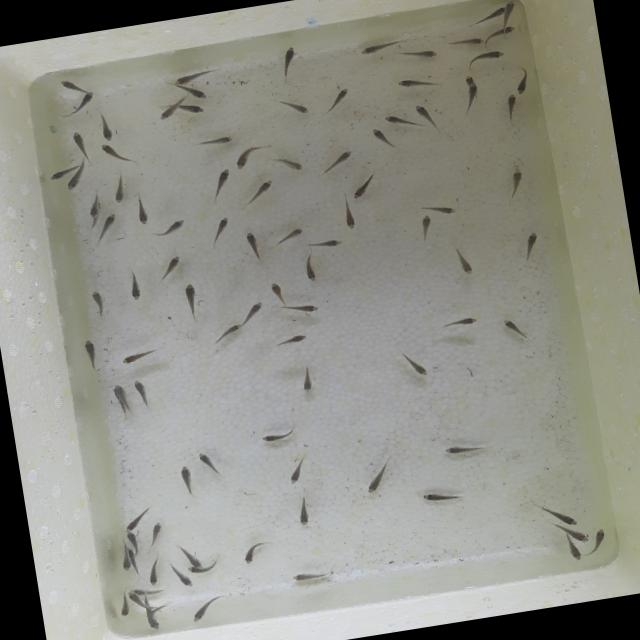fingerling: (252, 423, 304, 446), (546, 499, 581, 531), (318, 147, 358, 175), (295, 249, 326, 284), (418, 486, 462, 510), (240, 228, 268, 265), (362, 462, 392, 496), (396, 72, 440, 95), (195, 447, 223, 482), (500, 312, 528, 346), (452, 246, 480, 280), (281, 298, 324, 320), (274, 94, 310, 120), (240, 539, 272, 568), (349, 172, 382, 200), (438, 438, 484, 458), (336, 196, 360, 234), (354, 38, 399, 58), (232, 145, 263, 174), (174, 461, 198, 498), (556, 520, 590, 546), (516, 227, 542, 260), (507, 164, 532, 198), (192, 596, 222, 624), (78, 336, 102, 371), (276, 46, 300, 81), (424, 197, 462, 219), (182, 280, 202, 321), (246, 179, 280, 203), (411, 98, 438, 128), (171, 68, 216, 86), (439, 312, 479, 332), (151, 218, 189, 239), (121, 508, 154, 532), (124, 268, 147, 302), (308, 232, 347, 252), (114, 590, 138, 622), (68, 128, 92, 160), (208, 324, 245, 344), (404, 352, 430, 380), (458, 84, 484, 112), (368, 126, 396, 152), (272, 154, 305, 176), (156, 254, 186, 278), (88, 284, 108, 320), (382, 110, 416, 131), (287, 457, 310, 488), (297, 364, 319, 396), (132, 372, 154, 404), (97, 212, 120, 242), (119, 348, 157, 366), (466, 49, 506, 66), (147, 518, 168, 550), (193, 136, 235, 152), (100, 142, 128, 166), (210, 167, 233, 196), (326, 85, 355, 108), (296, 495, 316, 528), (56, 74, 86, 96), (208, 216, 232, 243), (134, 194, 152, 230), (402, 46, 438, 64), (72, 92, 100, 115), (290, 568, 330, 584), (471, 8, 504, 27), (180, 544, 202, 572), (46, 165, 78, 184), (96, 110, 115, 142), (417, 212, 437, 242), (585, 530, 608, 556), (112, 170, 130, 203), (504, 91, 524, 120), (268, 278, 290, 304), (84, 194, 105, 221), (274, 226, 307, 243), (513, 68, 533, 96), (132, 584, 168, 599), (180, 84, 210, 102), (566, 536, 585, 564), (179, 99, 207, 118), (272, 332, 309, 346), (449, 36, 485, 50), (185, 561, 213, 578), (149, 556, 162, 590), (125, 528, 142, 554), (118, 546, 133, 573), (245, 300, 265, 320), (502, 1, 518, 26), (64, 177, 86, 195), (128, 589, 144, 611), (144, 606, 158, 631), (116, 384, 130, 409), (128, 550, 142, 574), (489, 26, 516, 38), (462, 72, 480, 88), (158, 108, 178, 120)
